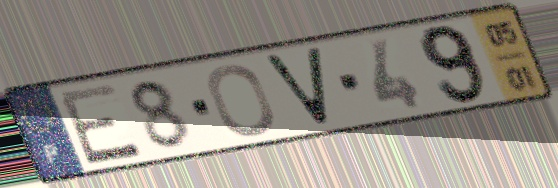4: (370, 35, 425, 113)
8: (129, 77, 196, 152)
9: (415, 23, 495, 106)
E: (54, 81, 147, 169)
O: (204, 61, 278, 140)
V: (257, 44, 334, 130)
